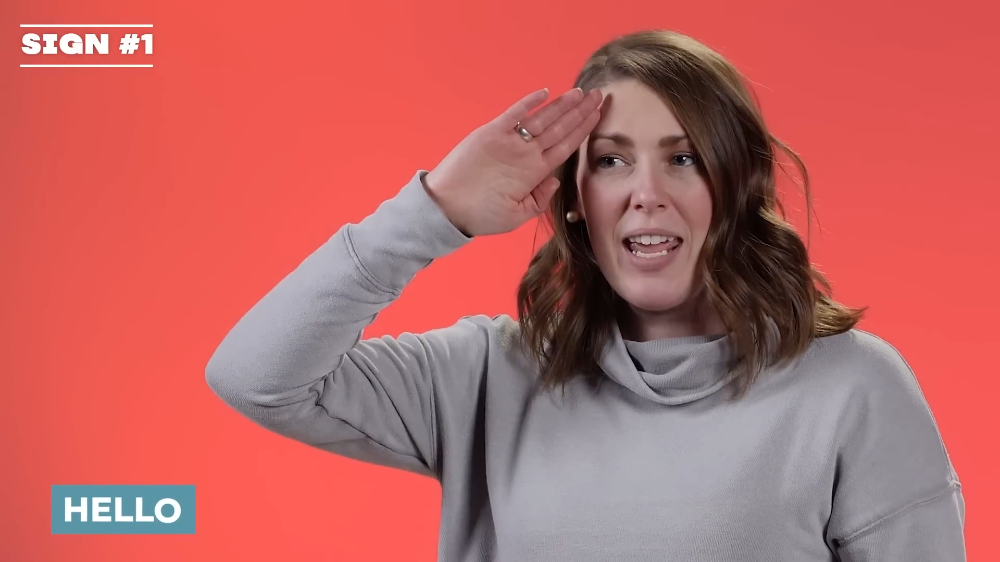hello: (439, 80, 611, 233)
